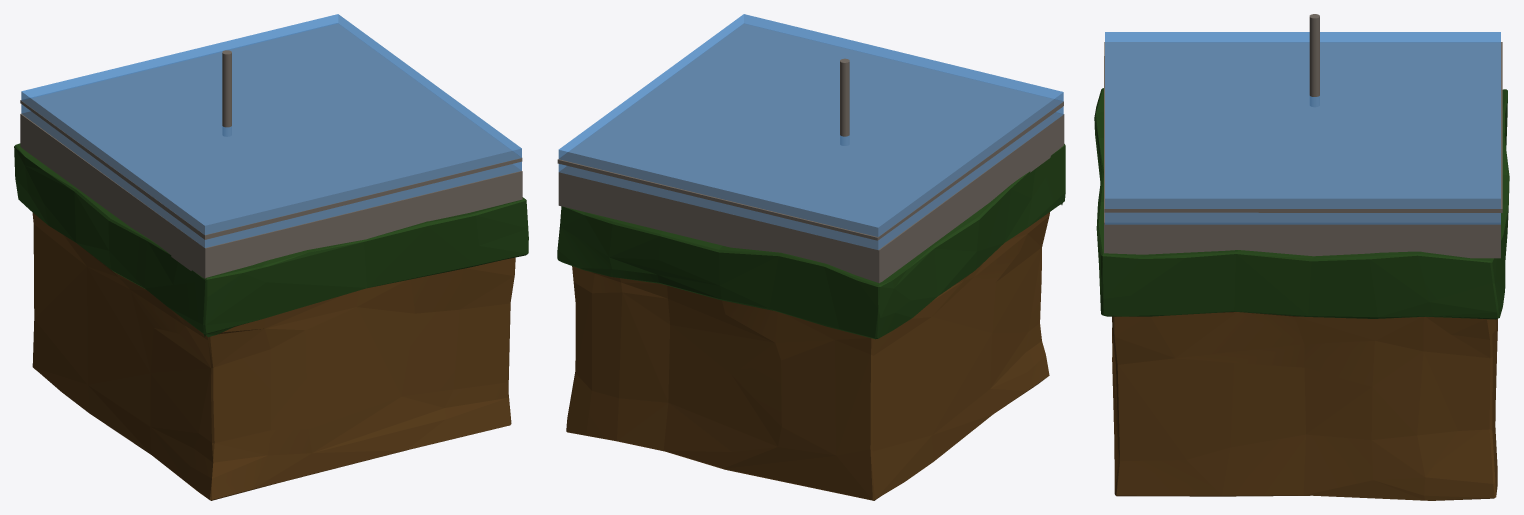
3 views of the same model, side by side, from view 1: azimuth 30°, elevation 25°; view 2: azimuth 150°, elevation 25°; view 3: azimuth 270°, elevation 25° (orthographic). The views are drawn at different scales.
Visible parts, largest first — view 1: M2; view 2: M2; view 3: M2.
Boxes of the visible parts, x1,y1,x2,y2 form: M2: (14, 14, 528, 500); M2: (557, 14, 1065, 500); M2: (1094, 14, 1509, 500).
Size of the model in its own units: 1.07 by 1.11 by 1.09.
